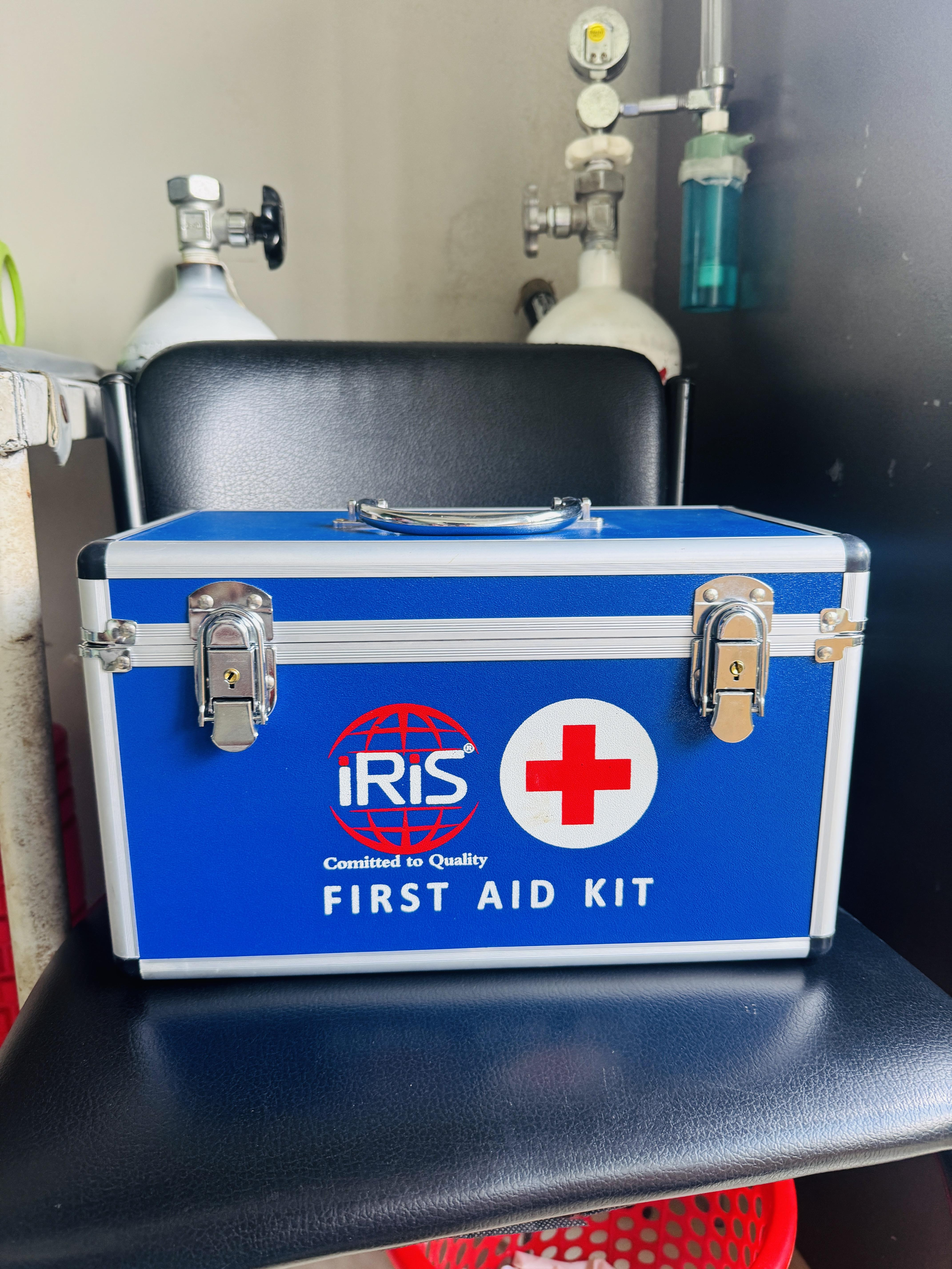FirstAidBox: (62, 478, 889, 999)
